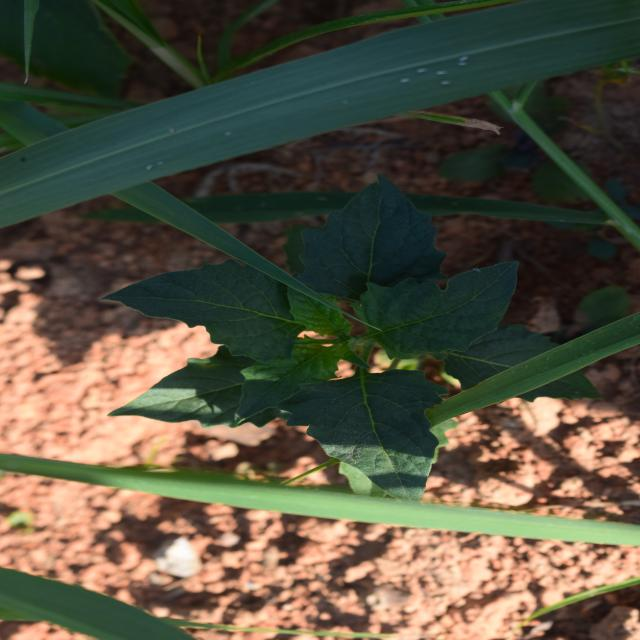Black_nightshade: (163, 148, 444, 509)
